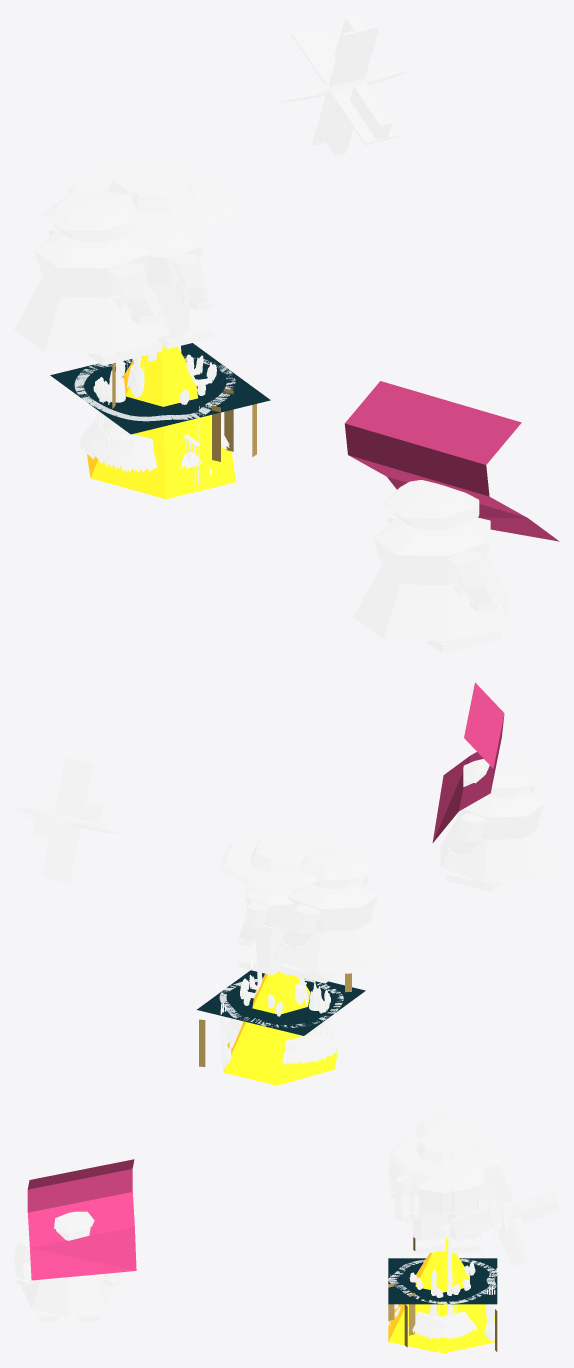
File: ile-geants-v5.glb
3 renders of one model, top to bottom at view 1: azimuth 30°, elevation 25°; view 2: azimuth 150°, elevation 25°; view 3: azimuth 270°, elevation 25°, orthographic. The views are drawn at different scales.
Visible parts, largest first — view 1: ile_anime1.038, ile_copie0.023, ile_banniere0.024, ile_lumieres.038, ile_anime0.038, ile_anime2.038, ile_libre0.036, ile_corps.038, ile_copie1.016, ile_vitres.028; view 2: ile_copie0.023, ile_anime1.038, ile_copie1.016, ile_lumieres.038, ile_anime0.038, ile_banniere0.024, ile_corps.038, ile_libre0.036, ile_anime2.038; view 3: ile_banniere0.024, ile_anime1.038, ile_copie1.016, ile_anime2.038, ile_lumieres.038, ile_anime0.038, ile_libre0.036, ile_corps.038, ile_copie0.023, ile_vitres.028.
Boxes of the visible parts, x1=… form: ile_anime1.038: x1=353, y1=480, x2=508, y2=653; ile_copie0.023: x1=14, y1=189, x2=169, y2=365; ile_banniere0.024: x1=344, y1=381, x2=559, y2=541; ile_lumieres.038: x1=87, y1=346, x2=235, y2=499; ile_anime0.038: x1=276, y1=14, x2=415, y2=155; ile_anime2.038: x1=119, y1=174, x2=236, y2=348; ile_libre0.036: x1=50, y1=343, x2=270, y2=434; ile_corps.038: x1=79, y1=346, x2=237, y2=485; ile_copie1.016: x1=68, y1=162, x2=218, y2=339; ile_vitres.028: x1=112, y1=363, x2=256, y2=461; ile_copie0.023: x1=274, y1=848, x2=393, y2=983; ile_anime1.038: x1=440, y1=757, x2=559, y2=891; ile_copie1.016: x1=219, y1=836, x2=324, y2=975; ile_lumieres.038: x1=216, y1=959, x2=337, y2=1085; ile_anime0.038: x1=14, y1=757, x2=120, y2=883; ile_banniere0.024: x1=432, y1=682, x2=504, y2=842; ile_corps.038: x1=220, y1=972, x2=342, y2=1069; ile_libre0.036: x1=197, y1=970, x2=365, y2=1035; ile_anime2.038: x1=228, y1=832, x2=339, y2=962; ile_banniere0.024: x1=27, y1=1159, x2=136, y2=1280; ile_anime1.038: x1=14, y1=1211, x2=120, y2=1321; ile_copie1.016: x1=403, y1=1132, x2=508, y2=1251; ile_anime2.038: x1=388, y1=1135, x2=490, y2=1252; ile_lumieres.038: x1=388, y1=1229, x2=497, y2=1353; ile_anime0.038: x1=451, y1=1163, x2=559, y2=1265; ile_libre0.036: x1=388, y1=1258, x2=497, y2=1304; ile_corps.038: x1=390, y1=1239, x2=495, y2=1341; ile_copie0.023: x1=388, y1=1114, x2=483, y2=1235; ile_vitres.028: x1=388, y1=1237, x2=497, y2=1351.
Bounding box in the file's own units: 6.18 × 4.89 × 10.02.
